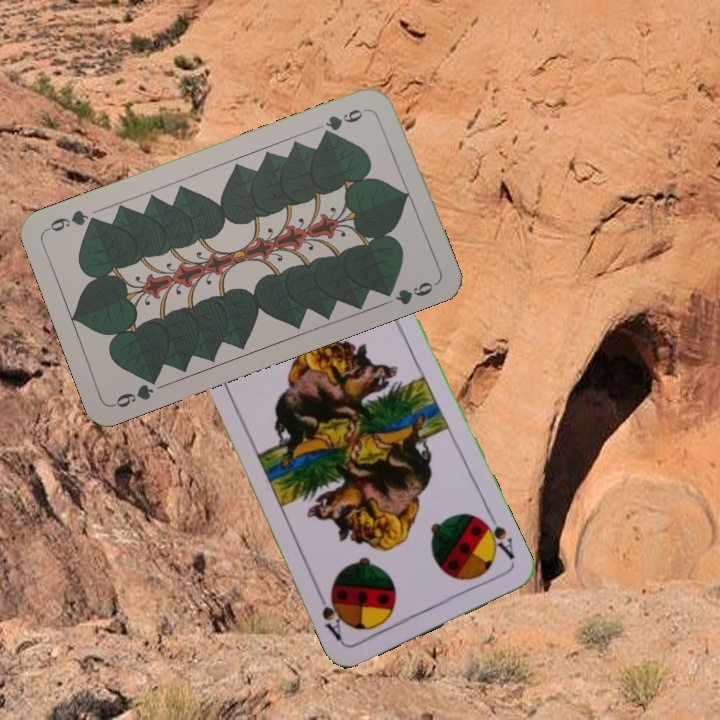G9: (109, 371, 162, 411), (318, 104, 372, 139)
SA: (476, 509, 517, 562)
